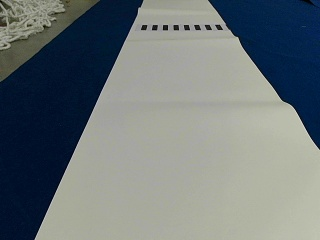crosswalk: (141, 23, 222, 30)
